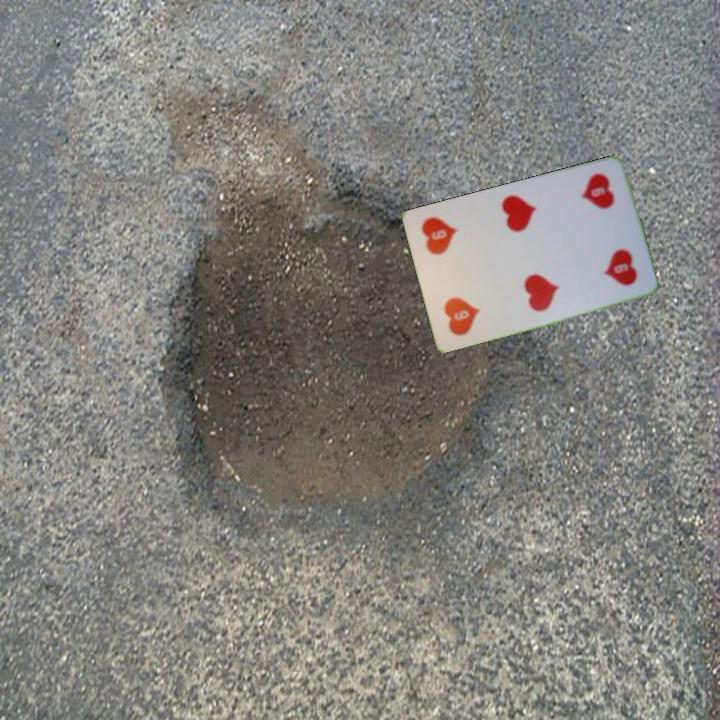h_6.png: (428, 263, 500, 342), (561, 165, 633, 243)
